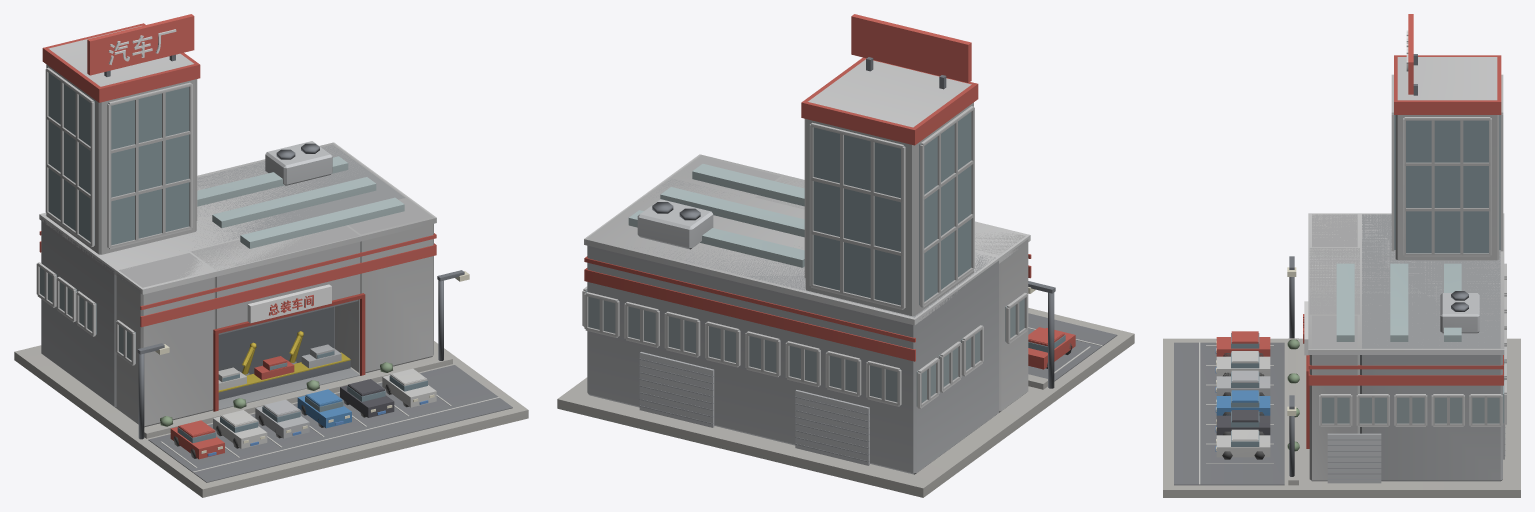
The model's file is car-factory.glb.
The picture shows the model from 3 angles, left to right: view 1: azimuth 30°, elevation 25°; view 2: azimuth 150°, elevation 25°; view 3: azimuth 270°, elevation 25°; orthographic projection. The views are drawn at different scales.
Visible parts, largest first — view 1: car-factory; view 2: car-factory; view 3: car-factory.
Boxes of the visible parts, x1=… form: car-factory: x1=14, y1=14, x2=528, y2=497; car-factory: x1=557, y1=14, x2=1134, y2=497; car-factory: x1=1163, y1=14, x2=1520, y2=497.
Size of the model in its own units: 2.04 by 2.1 by 2.
